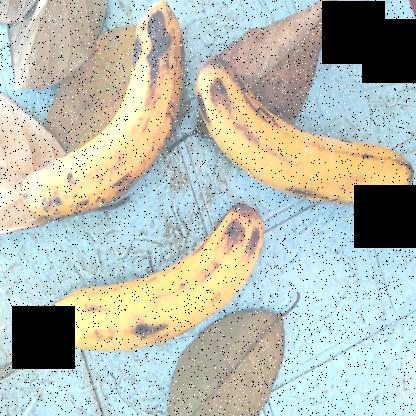overripe: (18, 1, 191, 223)
ripe: (193, 23, 414, 217), (44, 199, 278, 370)
